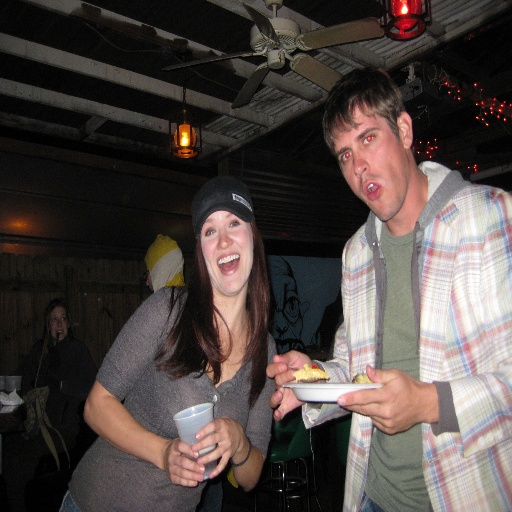hand: (334, 362, 422, 436), (189, 416, 241, 481), (272, 362, 312, 421), (161, 435, 205, 488)
